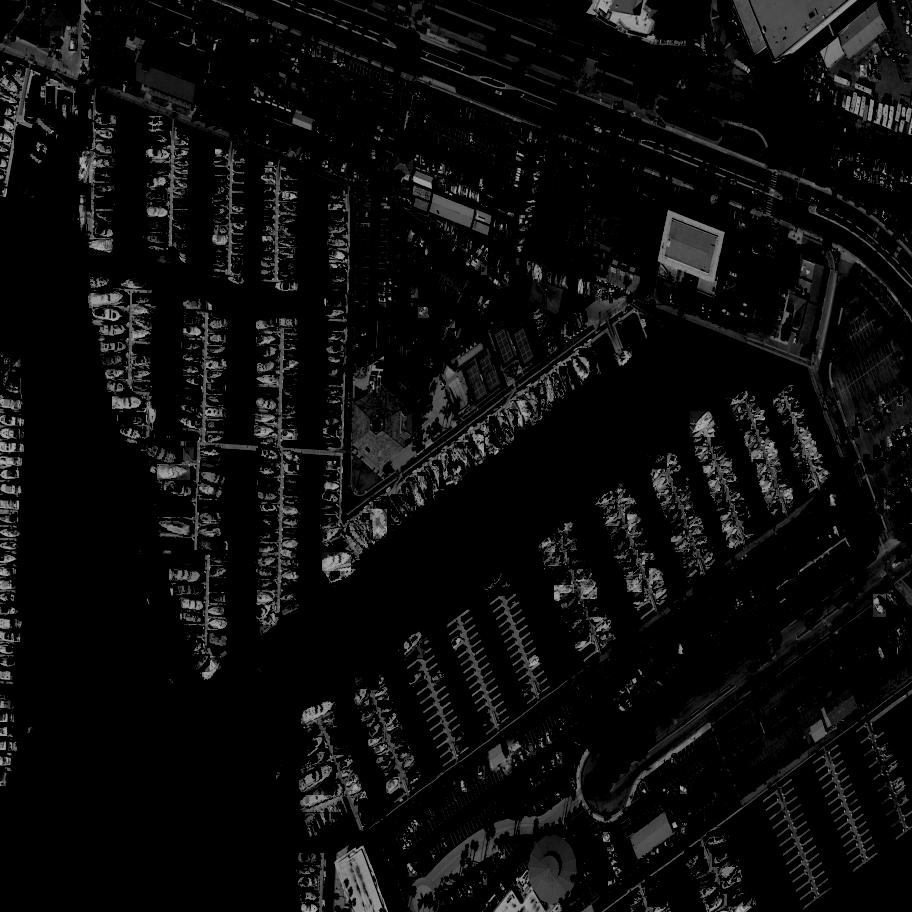large-vehicle: (732, 59, 753, 77), (834, 74, 852, 87), (701, 33, 710, 57)
ship: (11, 122, 71, 206), (296, 785, 347, 813), (296, 764, 340, 796), (137, 438, 181, 468), (345, 521, 375, 557), (299, 699, 339, 726), (380, 496, 406, 530), (398, 629, 427, 659), (300, 748, 331, 776), (719, 867, 750, 895), (151, 500, 192, 520), (404, 478, 428, 512), (5, 358, 27, 395), (688, 412, 718, 439), (444, 449, 471, 479), (362, 509, 389, 539), (480, 570, 510, 597), (726, 881, 755, 908), (717, 853, 743, 883), (351, 666, 382, 691), (372, 501, 394, 536), (171, 550, 206, 572), (462, 435, 486, 466), (157, 517, 194, 537), (162, 481, 195, 503), (77, 149, 97, 185), (515, 395, 540, 423), (712, 844, 741, 868), (327, 566, 361, 586), (320, 553, 354, 573), (257, 614, 285, 638), (454, 443, 477, 472), (89, 291, 126, 309), (489, 416, 509, 449), (578, 348, 599, 379), (726, 388, 754, 411), (201, 656, 223, 684), (199, 469, 228, 490), (683, 848, 707, 873), (509, 401, 529, 430), (651, 445, 674, 470), (197, 537, 227, 556), (302, 736, 329, 757), (92, 308, 125, 325), (441, 452, 456, 489), (0, 74, 23, 98), (344, 531, 366, 556), (0, 357, 14, 395), (198, 483, 226, 502), (551, 573, 575, 595), (417, 472, 434, 503), (391, 495, 411, 521), (642, 877, 668, 897), (536, 532, 562, 552), (591, 491, 618, 510), (120, 423, 147, 442), (499, 411, 515, 443), (571, 357, 591, 382), (158, 465, 191, 480), (424, 467, 441, 496), (79, 195, 91, 236), (570, 621, 592, 643), (255, 603, 276, 626), (545, 553, 566, 576), (151, 252, 181, 268), (320, 527, 346, 545), (88, 238, 114, 256), (113, 396, 144, 411), (197, 497, 226, 513), (433, 460, 447, 493), (617, 349, 637, 372), (558, 593, 581, 613), (279, 601, 303, 620), (207, 630, 231, 649), (172, 568, 202, 583), (541, 543, 561, 565), (559, 366, 573, 397), (177, 416, 204, 432), (646, 889, 670, 907), (144, 216, 169, 233), (102, 354, 127, 371), (256, 449, 281, 466), (697, 884, 722, 901), (612, 477, 632, 498), (587, 597, 607, 618), (580, 578, 600, 599), (178, 389, 202, 406), (705, 833, 732, 848), (476, 431, 489, 462), (402, 483, 415, 514), (606, 519, 626, 539), (624, 504, 643, 525), (583, 589, 605, 607), (573, 558, 591, 580), (567, 551, 589, 569), (257, 462, 280, 479), (255, 397, 278, 414), (872, 594, 889, 617), (552, 375, 567, 401), (117, 413, 147, 426), (174, 584, 204, 597), (553, 585, 577, 601), (353, 686, 372, 706), (629, 582, 648, 602), (574, 634, 595, 652), (94, 115, 121, 129), (100, 341, 127, 355), (180, 598, 205, 613), (257, 359, 279, 376), (530, 387, 542, 418), (94, 155, 117, 171), (132, 316, 155, 332), (200, 446, 223, 462), (687, 863, 710, 879), (358, 705, 377, 724), (619, 555, 638, 574), (320, 516, 339, 535), (193, 654, 212, 673), (566, 540, 585, 559), (562, 530, 580, 550), (326, 294, 347, 311), (94, 224, 116, 240), (200, 460, 225, 474), (184, 298, 209, 312), (62, 94, 74, 123), (297, 876, 320, 891), (255, 566, 278, 581), (91, 275, 114, 290), (180, 364, 203, 379), (616, 489, 635, 507), (627, 516, 646, 534), (595, 618, 615, 635), (603, 511, 623, 528), (599, 502, 619, 519), (648, 568, 665, 588), (0, 66, 26, 79), (611, 539, 632, 555), (258, 515, 279, 531), (147, 133, 171, 147), (256, 319, 280, 333), (560, 606, 584, 620), (94, 168, 116, 183), (131, 354, 153, 369), (180, 403, 202, 418), (182, 351, 204, 366), (384, 710, 402, 728), (652, 474, 670, 492), (625, 574, 643, 592), (385, 777, 404, 794), (374, 684, 393, 701), (631, 524, 648, 543), (546, 567, 569, 581), (670, 530, 690, 546), (328, 211, 348, 227), (367, 734, 388, 749), (209, 578, 230, 593), (132, 305, 153, 320), (322, 405, 343, 420), (95, 142, 117, 156), (258, 347, 280, 361), (208, 319, 230, 333), (401, 754, 418, 772), (669, 519, 686, 537), (362, 513, 371, 547), (620, 499, 639, 515), (634, 535, 653, 551), (632, 593, 651, 609), (257, 590, 277, 605), (296, 890, 319, 903), (147, 206, 170, 219), (206, 359, 229, 372), (486, 424, 495, 457), (590, 610, 611, 624), (257, 529, 278, 543), (324, 342, 345, 356), (575, 571, 596, 585), (368, 723, 385, 740), (666, 510, 683, 527), (345, 774, 362, 791), (331, 738, 348, 755), (688, 517, 706, 533), (370, 675, 388, 691), (644, 561, 662, 577), (299, 853, 321, 866), (147, 176, 169, 189), (207, 618, 229, 631), (100, 326, 126, 337), (565, 617, 587, 630), (692, 875, 714, 888), (684, 567, 703, 582), (407, 671, 426, 686), (329, 248, 348, 263), (284, 450, 303, 465), (327, 272, 347, 286), (96, 128, 116, 142), (94, 212, 114, 226), (133, 293, 153, 307), (324, 364, 344, 378), (613, 550, 634, 563), (257, 555, 278, 568), (149, 163, 170, 176), (183, 613, 204, 626), (716, 448, 732, 465), (667, 453, 683, 470), (679, 546, 696, 562), (394, 737, 410, 754), (341, 766, 358, 782), (330, 729, 346, 746), (375, 752, 393, 767), (386, 720, 404, 735), (148, 395, 157, 425), (654, 487, 673, 501), (278, 224, 297, 238), (347, 784, 366, 798), (357, 800, 376, 814), (1, 399, 23, 411), (121, 278, 145, 289), (258, 478, 278, 491), (106, 369, 126, 382), (108, 381, 128, 394), (257, 334, 277, 347), (183, 326, 203, 339), (621, 568, 641, 581), (364, 715, 380, 731), (652, 465, 667, 482), (407, 773, 424, 788), (380, 760, 397, 775), (280, 592, 297, 607), (355, 791, 370, 808), (335, 748, 352, 763), (324, 711, 339, 728), (276, 282, 299, 293), (694, 445, 712, 459), (380, 704, 398, 718), (146, 234, 167, 246), (254, 425, 275, 437), (498, 580, 516, 594), (637, 546, 656, 559), (209, 310, 228, 323), (625, 895, 644, 908), (546, 377, 555, 404), (146, 191, 168, 202), (722, 518, 737, 534), (711, 431, 726, 447), (673, 473, 689, 488), (683, 499, 699, 514), (692, 526, 708, 541), (297, 866, 317, 878), (641, 553, 657, 568), (210, 567, 230, 579), (182, 340, 202, 352), (183, 314, 203, 326), (206, 407, 226, 419), (557, 523, 577, 535), (682, 557, 699, 571), (756, 464, 770, 481), (762, 489, 779, 503), (192, 647, 209, 661), (373, 743, 391, 756), (662, 503, 680, 516), (211, 257, 229, 270), (282, 399, 300, 412), (540, 383, 548, 412), (209, 593, 230, 604), (199, 527, 222, 537), (673, 540, 692, 552), (321, 492, 340, 504), (280, 548, 299, 560), (280, 260, 299, 272), (760, 481, 775, 496), (725, 527, 741, 541), (732, 404, 746, 420), (770, 504, 784, 520), (528, 656, 544, 670), (454, 730, 468, 746), (148, 117, 164, 131), (728, 534, 741, 551), (679, 492, 696, 505), (687, 508, 700, 525), (340, 759, 357, 772), (326, 309, 346, 320), (327, 285, 347, 296), (210, 555, 230, 566), (255, 413, 275, 424), (206, 421, 226, 432), (280, 317, 300, 328), (282, 538, 300, 550), (279, 203, 297, 215), (74, 94, 82, 121), (703, 552, 717, 567), (714, 493, 728, 508), (766, 498, 781, 512), (509, 409, 519, 430), (94, 185, 115, 195), (257, 375, 278, 385), (359, 810, 374, 824), (210, 334, 229, 345), (719, 459, 735, 472), (718, 511, 734, 524), (715, 503, 731, 516), (752, 459, 768, 472), (652, 581, 668, 594), (328, 189, 344, 202), (147, 150, 170, 159), (675, 484, 692, 496), (695, 538, 712, 550), (709, 486, 726, 498), (739, 429, 756, 441), (659, 495, 676, 507), (281, 181, 298, 193), (331, 803, 343, 820), (258, 544, 278, 554), (275, 763, 285, 783), (258, 388, 278, 398), (282, 419, 302, 429), (397, 750, 415, 761), (283, 517, 301, 528), (283, 360, 301, 371), (282, 389, 300, 400), (200, 513, 222, 522), (705, 469, 719, 483), (703, 461, 717, 475), (712, 442, 727, 455), (669, 465, 684, 478), (744, 435, 757, 450), (656, 588, 671, 601), (697, 455, 713, 467), (358, 699, 374, 711), (737, 421, 753, 433), (533, 266, 545, 282), (284, 475, 300, 487), (213, 224, 229, 236), (173, 198, 189, 210), (174, 178, 190, 190), (281, 570, 300, 580), (132, 331, 151, 341), (743, 524, 760, 535), (376, 696, 393, 707), (282, 192, 299, 203), (258, 438, 275, 449), (47, 87, 55, 110), (729, 482, 742, 496), (730, 492, 744, 505), (790, 400, 804, 413), (748, 443, 762, 456), (530, 306, 544, 319), (452, 636, 465, 650), (707, 426, 722, 438), (709, 477, 721, 492), (759, 473, 771, 488), (227, 277, 245, 287), (132, 370, 152, 379), (208, 606, 226, 616), (323, 418, 341, 428), (207, 347, 227, 356), (390, 731, 406, 742), (599, 633, 615, 644), (568, 314, 579, 330), (212, 235, 228, 246), (173, 220, 189, 231), (328, 333, 344, 344), (316, 814, 327, 830), (878, 648, 889, 664), (259, 492, 278, 501), (278, 238, 297, 247), (95, 199, 114, 208), (184, 378, 203, 387), (172, 241, 189, 251), (173, 232, 190, 242), (133, 382, 150, 392), (325, 723, 342, 733), (818, 469, 831, 482), (809, 446, 821, 460), (800, 473, 814, 485), (232, 193, 246, 205), (788, 443, 803, 454), (750, 452, 765, 463), (284, 485, 299, 496), (213, 215, 228, 226), (214, 185, 229, 196), (261, 253, 276, 264), (282, 429, 297, 440), (307, 822, 316, 840), (207, 383, 225, 392), (569, 278, 579, 294), (542, 268, 552, 284), (324, 482, 340, 492), (738, 509, 751, 521), (781, 418, 794, 430), (761, 434, 774, 446), (488, 256, 500, 269), (232, 222, 246, 233), (283, 381, 300, 390), (284, 464, 301, 473), (328, 226, 347, 234), (184, 626, 203, 634), (699, 546, 714, 556), (430, 673, 445, 683), (735, 414, 750, 424), (322, 470, 337, 480), (231, 214, 246, 224), (325, 438, 340, 448), (816, 461, 828, 473), (779, 410, 791, 422), (783, 487, 795, 499), (756, 419, 768, 431), (574, 314, 583, 330), (537, 323, 549, 335), (537, 317, 549, 329), (324, 428, 340, 437), (208, 371, 224, 380), (207, 396, 225, 404), (804, 440, 817, 451), (787, 393, 800, 404), (776, 403, 787, 416), (767, 450, 780, 461), (751, 403, 762, 416), (520, 684, 533, 695), (753, 411, 767, 421), (540, 341, 554, 351), (328, 239, 345, 247), (284, 498, 299, 507), (777, 473, 788, 485), (726, 477, 739, 487), (734, 502, 747, 512), (783, 386, 796, 396), (328, 203, 344, 211), (285, 330, 301, 338), (778, 481, 792, 490), (758, 428, 772, 437), (589, 286, 598, 300), (323, 810, 330, 828), (279, 249, 297, 256), (173, 211, 187, 220), (86, 125, 93, 143), (561, 275, 570, 289), (784, 426, 795, 437), (481, 714, 492, 725), (799, 425, 811, 435), (793, 450, 805, 460), (787, 495, 797, 507), (765, 442, 777, 452), (580, 282, 588, 297), (539, 336, 551, 346), (259, 581, 274, 589), (213, 177, 228, 185), (285, 351, 300, 359), (285, 371, 300, 379), (328, 356, 343, 364), (532, 264, 540, 279), (801, 434, 814, 443), (793, 410, 806, 419), (692, 438, 705, 447), (769, 458, 782, 467), (212, 246, 225, 255), (213, 196, 226, 205), (261, 226, 274, 235), (191, 643, 204, 652), (584, 283, 592, 297), (284, 507, 298, 515), (284, 528, 298, 536), (282, 217, 296, 225), (327, 398, 341, 406), (773, 396, 784, 406), (232, 263, 243, 273), (483, 301, 493, 312), (812, 455, 824, 464), (796, 418, 808, 427), (799, 466, 811, 475), (261, 261, 273, 270), (482, 249, 491, 261), (587, 284, 594, 299), (261, 506, 276, 513), (209, 272, 224, 279), (533, 314, 546, 322), (326, 461, 339, 469), (281, 580, 294, 588), (232, 205, 245, 213), (579, 310, 585, 327), (284, 341, 301, 347), (278, 273, 298, 278), (322, 504, 336, 511), (175, 160, 189, 167), (327, 388, 341, 395), (520, 259, 527, 273), (560, 325, 566, 341), (261, 244, 273, 252), (175, 140, 187, 148), (208, 436, 224, 442), (214, 208, 227, 215), (748, 397, 758, 406), (328, 265, 346, 270), (881, 745, 891, 754), (724, 469, 735, 477), (796, 459, 807, 467), (232, 255, 243, 263), (787, 436, 799, 443), (282, 561, 296, 567), (232, 244, 244, 251), (500, 265, 507, 277), (591, 350, 600, 359), (579, 279, 584, 295), (264, 202, 274, 210), (541, 267, 547, 280), (263, 169, 274, 176), (575, 279, 580, 294), (175, 151, 190, 156), (282, 411, 297, 416), (174, 190, 186, 196), (461, 240, 469, 249), (595, 289, 601, 301), (178, 132, 188, 139), (506, 212, 516, 219), (500, 233, 507, 243), (448, 226, 455, 236), (641, 319, 648, 329), (460, 236, 466, 247), (458, 233, 464, 244), (446, 223, 452, 234), (564, 323, 568, 339), (568, 320, 572, 336), (549, 269, 553, 285), (490, 229, 497, 238), (233, 185, 245, 190), (262, 236, 272, 242), (174, 171, 189, 175), (679, 643, 684, 655), (444, 221, 450, 231), (162, 434, 170, 441), (478, 250, 485, 258), (214, 159, 225, 164), (262, 176, 273, 181), (263, 194, 274, 199), (465, 241, 471, 250), (262, 271, 272, 276), (283, 174, 291, 180), (603, 292, 608, 301), (609, 292, 613, 303), (28, 728, 33, 736), (262, 218, 272, 222), (519, 215, 523, 225), (529, 262, 532, 275), (235, 236, 242, 241), (216, 149, 223, 154), (236, 164, 243, 169), (151, 469, 157, 474), (26, 98, 29, 108), (618, 321, 624, 326), (128, 444, 135, 448), (602, 291, 605, 300), (496, 219, 498, 232), (508, 273, 510, 284), (255, 669, 260, 673), (600, 289, 602, 297), (302, 769, 304, 776)
small-vehicle: (406, 862, 419, 878), (463, 884, 475, 897), (409, 336, 421, 349), (413, 153, 424, 167), (803, 514, 813, 529), (617, 703, 629, 715), (601, 857, 613, 869), (604, 867, 616, 879), (883, 178, 894, 191), (489, 804, 500, 817), (467, 881, 478, 894), (873, 411, 883, 425), (435, 813, 445, 827), (680, 606, 692, 617), (679, 772, 690, 784), (656, 799, 667, 811), (881, 46, 892, 58), (880, 238, 891, 250), (418, 307, 429, 319), (751, 247, 763, 258), (518, 751, 528, 764), (892, 431, 902, 444), (853, 167, 863, 180), (534, 770, 544, 783), (485, 806, 495, 819), (815, 537, 825, 550), (402, 836, 412, 849), (442, 838, 452, 851), (476, 874, 486, 887), (159, 17, 169, 30), (455, 171, 465, 184), (886, 136, 895, 150), (868, 129, 877, 143), (859, 65, 868, 79), (467, 255, 476, 269), (407, 229, 416, 243), (616, 866, 627, 877), (891, 386, 902, 397), (456, 785, 467, 796), (327, 115, 338, 126), (51, 50, 62, 61), (416, 294, 427, 305), (462, 254, 473, 265), (869, 461, 879, 473), (512, 755, 520, 770), (655, 677, 667, 687), (879, 394, 889, 406), (882, 405, 892, 417), (826, 529, 834, 544), (472, 879, 482, 891), (213, 39, 221, 54), (427, 350, 437, 362), (438, 312, 448, 324), (451, 101, 461, 113), (423, 223, 433, 235), (686, 803, 695, 816), (886, 42, 895, 55), (864, 196, 873, 209), (892, 181, 901, 194), (554, 787, 563, 800), (555, 752, 564, 765), (279, 140, 288, 153), (611, 102, 624, 111), (417, 88, 426, 101), (452, 167, 461, 180), (463, 172, 472, 185), (437, 163, 446, 176), (549, 790, 557, 804), (541, 765, 549, 779), (480, 871, 488, 885), (448, 166, 456, 180), (866, 463, 876, 474), (639, 784, 649, 795), (571, 742, 581, 753), (482, 868, 492, 879), (80, 50, 90, 61), (450, 243, 460, 254), (438, 232, 448, 243), (778, 290, 789, 300), (876, 457, 885, 469), (607, 880, 619, 889), (896, 429, 905, 441), (873, 160, 882, 172), (848, 150, 857, 162), (898, 5, 907, 17), (883, 212, 892, 224), (880, 209, 889, 221), (901, 185, 910, 197), (638, 668, 647, 680), (894, 139, 903, 151), (413, 817, 422, 829), (443, 792, 452, 804), (556, 722, 565, 734), (132, 4, 141, 16), (171, 22, 180, 34), (209, 6, 218, 18), (472, 309, 481, 321), (739, 594, 747, 607), (897, 184, 905, 197), (901, 474, 909, 487), (338, 133, 346, 146), (414, 236, 422, 249), (875, 494, 885, 504), (899, 441, 909, 451), (608, 848, 618, 858), (398, 828, 408, 838), (775, 302, 785, 312), (903, 438, 912, 449), (882, 451, 891, 462), (583, 694, 594, 703), (625, 699, 634, 710), (611, 859, 622, 868), (857, 170, 866, 181), (749, 268, 760, 277), (409, 820, 418, 831), (120, 18, 129, 29), (80, 64, 89, 75), (631, 164, 640, 175), (500, 173, 511, 182), (905, 471, 912, 485), (720, 609, 727, 623), (416, 858, 423, 872), (713, 33, 720, 47), (880, 489, 888, 501), (900, 426, 908, 438), (680, 823, 688, 835), (529, 743, 537, 755), (861, 156, 869, 168), (891, 168, 899, 180), (849, 164, 857, 176), (898, 490, 906, 502), (732, 600, 740, 612), (507, 876, 515, 888), (495, 853, 503, 865), (128, 51, 136, 63), (224, 12, 232, 24), (331, 132, 339, 144), (444, 282, 452, 294), (341, 163, 349, 175), (445, 166, 453, 178), (706, 789, 713, 802), (878, 161, 885, 174), (316, 45, 323, 58), (478, 766, 485, 779), (869, 199, 876, 212), (462, 886, 469, 899), (122, 79, 129, 92), (425, 91, 432, 104), (886, 486, 895, 496), (640, 691, 649, 701), (613, 863, 623, 872), (407, 823, 416, 833), (381, 857, 390, 867), (93, 36, 103, 45), (82, 20, 92, 29), (472, 259, 481, 269), (444, 238, 453, 248), (753, 202, 763, 211), (765, 243, 775, 252), (740, 312, 750, 321), (721, 310, 731, 319), (897, 443, 905, 454), (525, 746, 533, 757), (587, 879, 598, 887), (836, 159, 844, 170), (331, 53, 339, 64), (576, 739, 584, 750), (487, 863, 495, 874), (457, 888, 465, 899), (410, 287, 418, 298), (416, 254, 424, 265), (361, 104, 372, 112), (322, 157, 330, 168), (415, 127, 423, 138), (862, 271, 869, 283), (830, 495, 837, 507), (873, 445, 879, 459), (856, 414, 863, 426), (297, 39, 304, 51), (294, 37, 301, 49), (712, 786, 718, 800), (891, 138, 898, 150), (899, 476, 905, 490), (461, 780, 468, 792), (513, 869, 520, 881), (511, 872, 518, 884), (504, 879, 511, 891), (131, 80, 138, 92), (83, 33, 90, 45), (424, 246, 431, 258), (481, 153, 488, 165), (837, 208, 846, 217), (897, 397, 906, 406), (376, 126, 385, 135), (679, 786, 689, 794), (584, 869, 594, 877), (607, 842, 615, 852), (863, 455, 871, 465), (852, 427, 860, 437), (334, 55, 342, 65), (500, 883, 508, 893), (377, 847, 387, 855), (448, 320, 456, 330), (443, 317, 451, 327), (741, 303, 751, 311), (739, 221, 749, 229), (892, 481, 898, 494), (445, 891, 451, 904), (439, 324, 445, 337), (884, 499, 891, 510), (904, 13, 911, 24), (901, 171, 908, 182), (552, 727, 559, 738), (566, 746, 573, 757), (431, 850, 438, 861), (438, 798, 445, 809), (453, 892, 460, 903), (499, 849, 506, 860), (290, 63, 297, 74), (301, 42, 308, 53), (353, 139, 360, 150), (356, 303, 367, 310), (727, 181, 738, 188), (441, 138, 448, 149), (609, 854, 618, 862), (603, 833, 611, 842), (546, 732, 552, 744), (94, 19, 103, 27), (199, 2, 205, 14), (15, 28, 24, 36), (435, 353, 441, 365), (464, 302, 472, 311), (709, 309, 715, 321), (728, 275, 737, 283), (477, 109, 483, 121), (495, 89, 504, 97), (374, 135, 383, 143), (420, 156, 426, 168), (663, 788, 673, 795), (120, 49, 127, 59), (83, 29, 90, 39), (327, 131, 334, 141), (304, 43, 311, 53), (880, 293, 887, 303), (704, 13, 710, 24), (646, 853, 652, 864), (883, 135, 889, 146), (529, 776, 535, 787), (206, 5, 212, 16), (371, 148, 377, 159), (411, 297, 417, 308), (482, 265, 488, 276), (437, 228, 443, 239), (418, 359, 424, 370), (670, 292, 676, 303), (317, 153, 323, 164), (429, 132, 435, 143), (422, 129, 428, 140), (469, 107, 474, 120), (461, 105, 466, 118), (358, 289, 367, 296), (736, 598, 742, 608), (887, 437, 893, 447), (887, 166, 893, 176), (871, 174, 876, 186), (863, 170, 869, 180), (845, 148, 850, 160), (873, 70, 878, 82), (876, 175, 882, 185), (536, 802, 542, 812), (562, 721, 568, 731), (127, 2, 132, 14), (342, 58, 348, 68), (414, 84, 419, 96), (362, 95, 372, 101), (410, 125, 416, 135), (800, 573, 805, 584), (700, 797, 705, 808), (857, 153, 862, 164), (425, 854, 430, 865), (435, 801, 440, 812), (199, 107, 204, 118), (869, 280, 874, 291), (451, 101, 456, 112), (431, 222, 436, 233), (424, 156, 429, 167), (91, 70, 100, 76), (553, 757, 557, 770), (893, 498, 898, 508), (892, 447, 897, 457), (584, 893, 589, 903), (833, 160, 838, 170), (865, 422, 870, 432), (285, 35, 290, 45), (356, 310, 366, 315), (357, 295, 367, 300), (358, 228, 368, 233), (359, 218, 369, 223), (332, 160, 337, 170), (489, 115, 494, 125), (874, 498, 881, 505), (874, 460, 878, 472), (890, 180, 894, 192), (904, 144, 910, 152), (729, 603, 733, 615), (292, 57, 300, 63), (335, 82, 341, 90), (38, 40, 46, 46), (729, 271, 737, 277), (733, 243, 741, 249), (379, 113, 387, 119), (480, 178, 484, 190), (895, 444, 900, 453), (822, 201, 831, 206), (750, 328, 759, 333), (896, 494, 901, 503), (191, 20, 200, 25), (94, 10, 103, 15), (317, 126, 322, 135), (323, 50, 328, 59), (595, 129, 604, 134), (360, 210, 369, 215), (664, 762, 668, 773), (541, 738, 545, 749), (878, 206, 882, 217), (450, 890, 454, 901), (206, 73, 210, 84), (359, 141, 363, 152), (266, 134, 270, 145), (339, 56, 343, 67), (356, 333, 367, 337), (305, 149, 309, 160), (424, 90, 428, 101), (473, 175, 477, 186), (464, 146, 468, 157), (448, 140, 452, 151), (802, 192, 809, 198), (752, 323, 759, 329), (880, 441, 884, 451), (329, 51, 333, 61), (430, 806, 434, 816), (251, 40, 259, 45), (325, 79, 333, 84), (402, 199, 410, 204), (432, 161, 436, 171), (717, 307, 720, 320), (672, 753, 675, 765), (871, 158, 875, 167), (869, 171, 872, 183), (883, 163, 887, 172), (897, 168, 901, 177), (874, 202, 877, 214), (434, 891, 437, 903), (870, 60, 873, 72), (195, 33, 199, 42), (605, 839, 610, 846), (768, 232, 775, 237), (907, 21, 910, 32), (542, 800, 545, 811), (222, 115, 225, 126), (178, 23, 181, 34), (311, 87, 314, 98), (875, 285, 878, 296), (878, 136, 882, 144), (357, 273, 365, 277), (899, 53, 905, 58), (537, 740, 540, 750), (292, 37, 295, 47), (842, 162, 845, 172), (903, 489, 906, 499), (165, 18, 168, 28), (222, 76, 225, 86), (219, 10, 222, 20), (703, 304, 706, 314), (442, 97, 445, 107), (313, 151, 316, 161), (402, 191, 408, 196), (436, 135, 439, 145), (803, 186, 810, 190), (93, 31, 100, 35), (380, 853, 387, 857), (92, 65, 99, 69), (308, 45, 312, 52), (774, 314, 781, 318), (534, 742, 537, 751), (881, 178, 884, 187), (320, 48, 323, 57), (119, 16, 122, 25), (228, 44, 231, 53), (288, 36, 291, 45), (31, 9, 34, 18), (435, 95, 438, 104), (812, 197, 817, 202), (331, 107, 336, 112), (753, 191, 758, 196), (875, 56, 878, 64), (722, 318, 728, 322), (327, 159, 330, 167), (425, 116, 428, 124), (428, 159, 430, 171), (313, 46, 315, 57), (414, 357, 416, 368), (355, 168, 357, 179), (325, 129, 328, 136), (737, 234, 744, 237), (901, 143, 903, 153), (471, 133, 473, 142), (494, 118, 496, 126), (149, 12, 150, 22)
